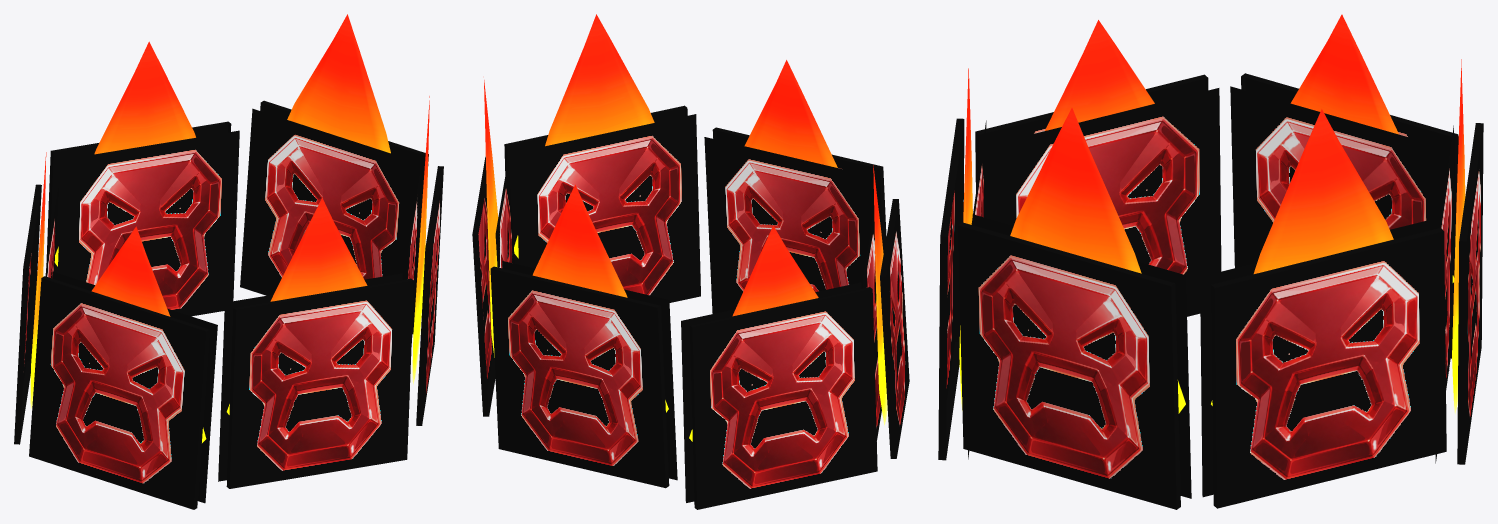
Rendered from powerup_rage.glb.
The picture shows the model from 3 angles, left to right: view 1: azimuth 30°, elevation 25°; view 2: azimuth 150°, elevation 25°; view 3: azimuth 270°, elevation 25°; orthographic projection. The views are drawn at different scales.
Parts seen in each view (by area): view 1: rage1, rage6, rage4, rage3, flame3, flame4, flame1, rage2, rage5, flame6, flame2, flame5; view 2: rage5, rage4, rage2, rage1, flame2, rage6, flame4, flame1, rage3, flame5, flame6, flame3; view 3: rage3, rage2, rage6, rage5, flame3, flame2, rage4, rage1, flame5, flame6, flame4, flame1.
Part boxes in pixels (left/top/right/bottom): rage1: left=218, top=273, right=413, bottom=488; rage6: left=29, top=271, right=217, bottom=509; rage4: left=46, top=121, right=239, bottom=316; rage3: left=240, top=100, right=428, bottom=334; flame3: left=287, top=14, right=390, bottom=153; flame4: left=54, top=41, right=195, bottom=266; flame1: left=226, top=198, right=367, bottom=414; rage2: left=407, top=166, right=443, bottom=425; rage5: left=14, top=184, right=58, bottom=444; flame6: left=91, top=226, right=206, bottom=442; flame2: left=412, top=96, right=429, bottom=384; flame5: left=30, top=152, right=46, bottom=409; rage5: left=681, top=282, right=877, bottom=509; rage4: left=490, top=261, right=677, bottom=488; rage2: left=504, top=105, right=700, bottom=302; rage1: left=704, top=127, right=886, bottom=313; flame2: left=514, top=14, right=654, bottom=258; rage6: left=863, top=199, right=909, bottom=458; flame4: left=532, top=184, right=668, bottom=412; flame1: left=744, top=60, right=837, bottom=167; rage3: left=472, top=156, right=514, bottom=416; flame5: left=689, top=225, right=818, bottom=441; flame6: left=873, top=165, right=887, bottom=426; flame3: left=484, top=80, right=498, bottom=357; rage3: left=1200, top=220, right=1446, bottom=508; rage2: left=958, top=214, right=1191, bottom=509; rage6: left=975, top=74, right=1221, bottom=316; rage5: left=1230, top=73, right=1458, bottom=370; flame3: left=1211, top=109, right=1393, bottom=405; flame2: left=1010, top=108, right=1185, bottom=413; rage4: left=1435, top=123, right=1483, bottom=464; rage1: left=938, top=118, right=986, bottom=460; flame5: left=1290, top=14, right=1454, bottom=282; flame6: left=1045, top=20, right=1154, bottom=130; flame4: left=1452, top=59, right=1465, bottom=414; flame1: left=959, top=68, right=972, bottom=411.
Size of the model in its own units: 1.42 by 1.11 by 1.29.
Materials: 2 (2 with a texture image).
